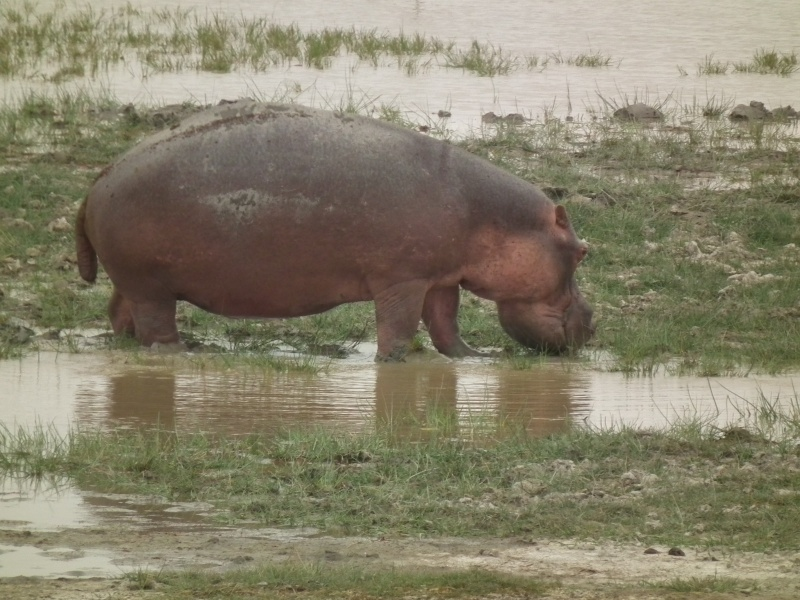hipopotamo: (75, 100, 606, 374)
